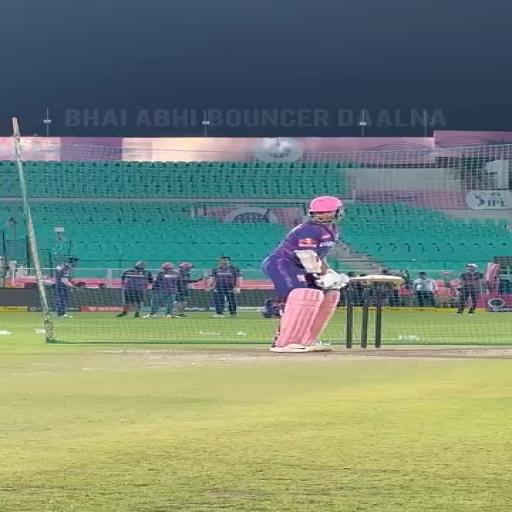Cricket bat: (351, 274, 402, 282)
